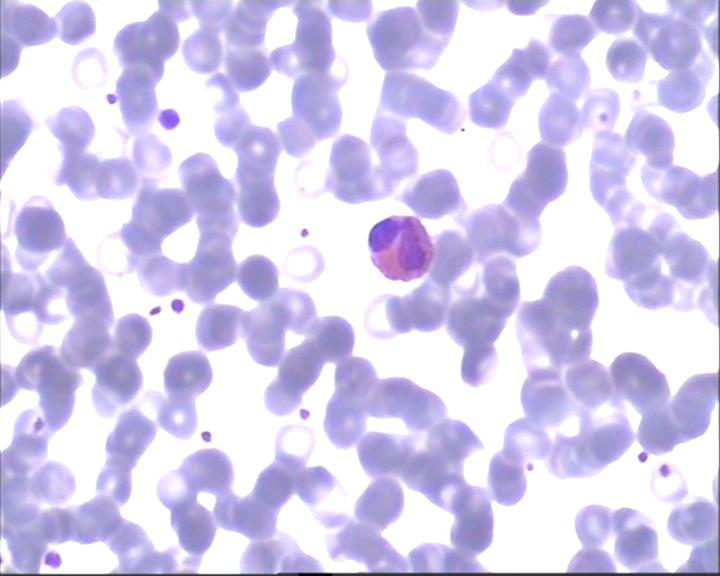eosi: (367, 210, 438, 284)
